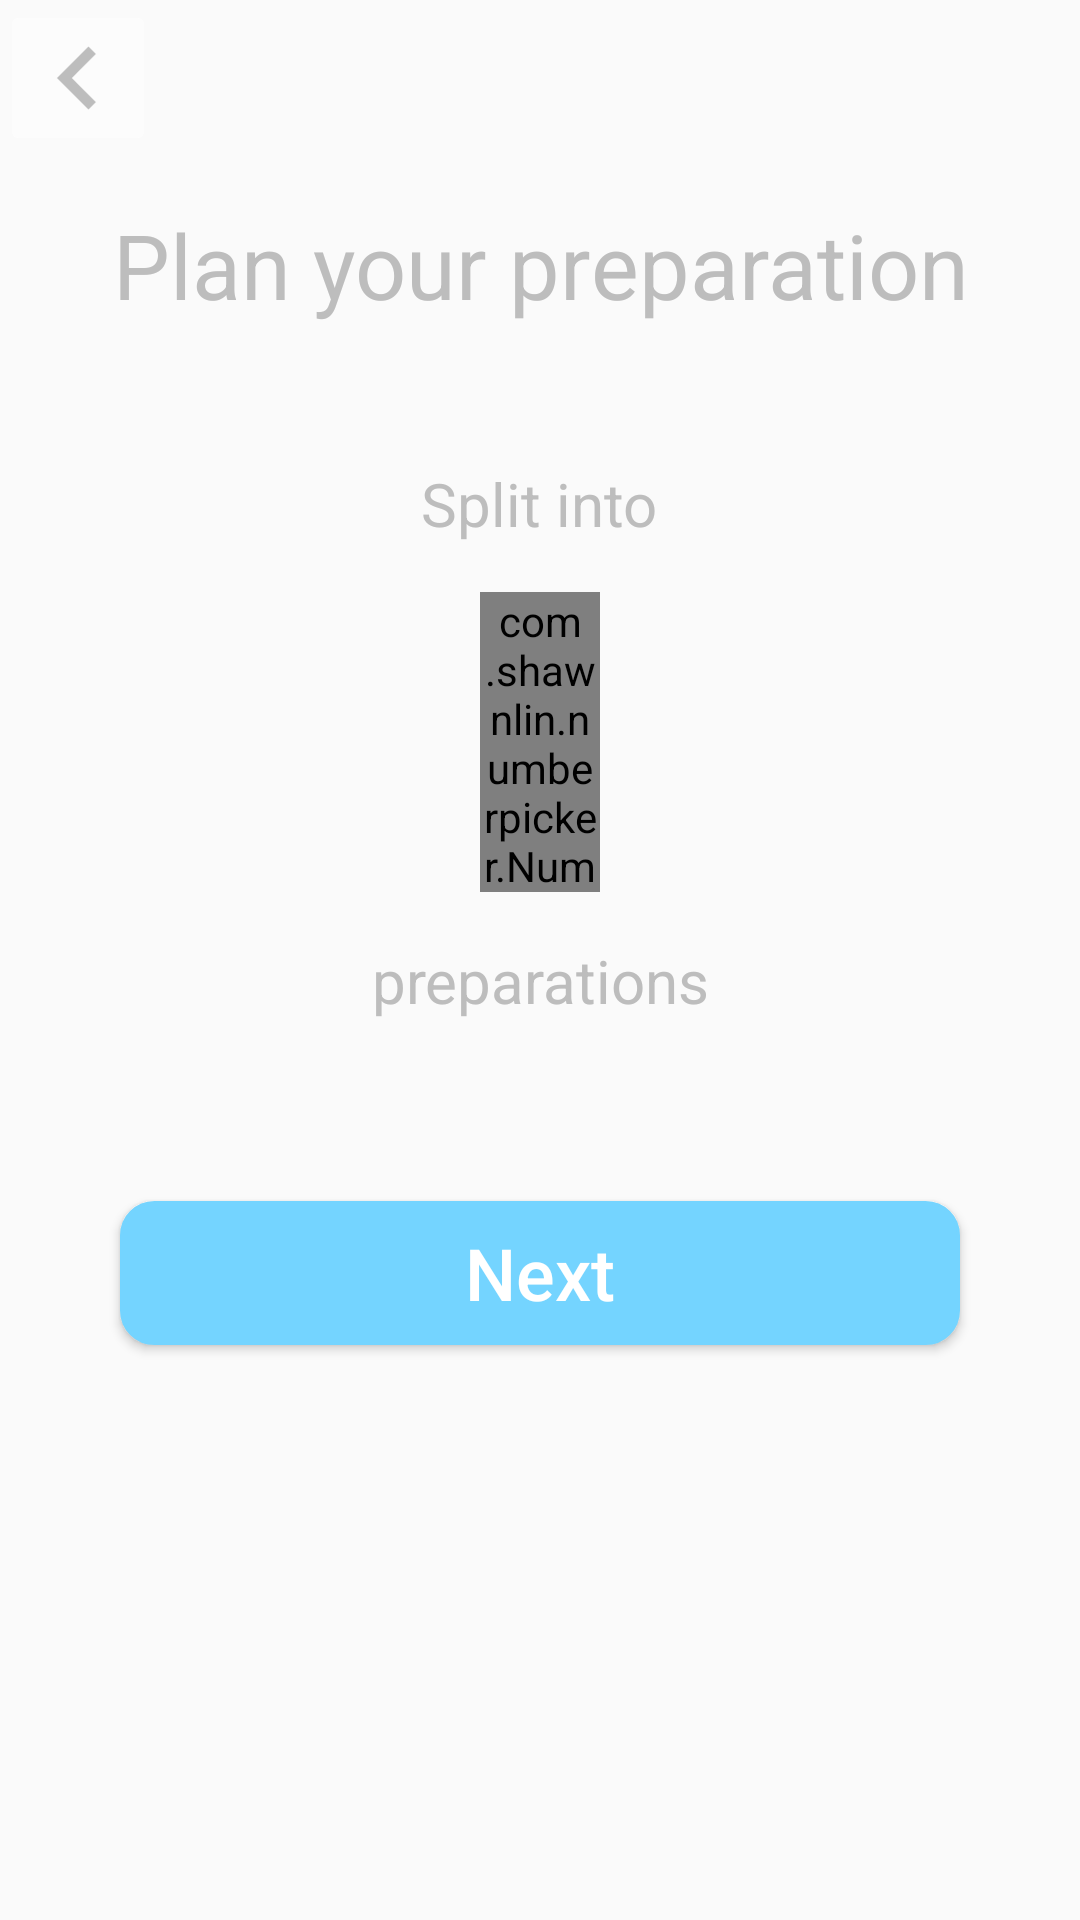

Named icons in this screenshot (1080x1920) and their bounding boxes, bbox=(x1, y1, x2, y2):
back: bbox=(57, 47, 96, 109)
